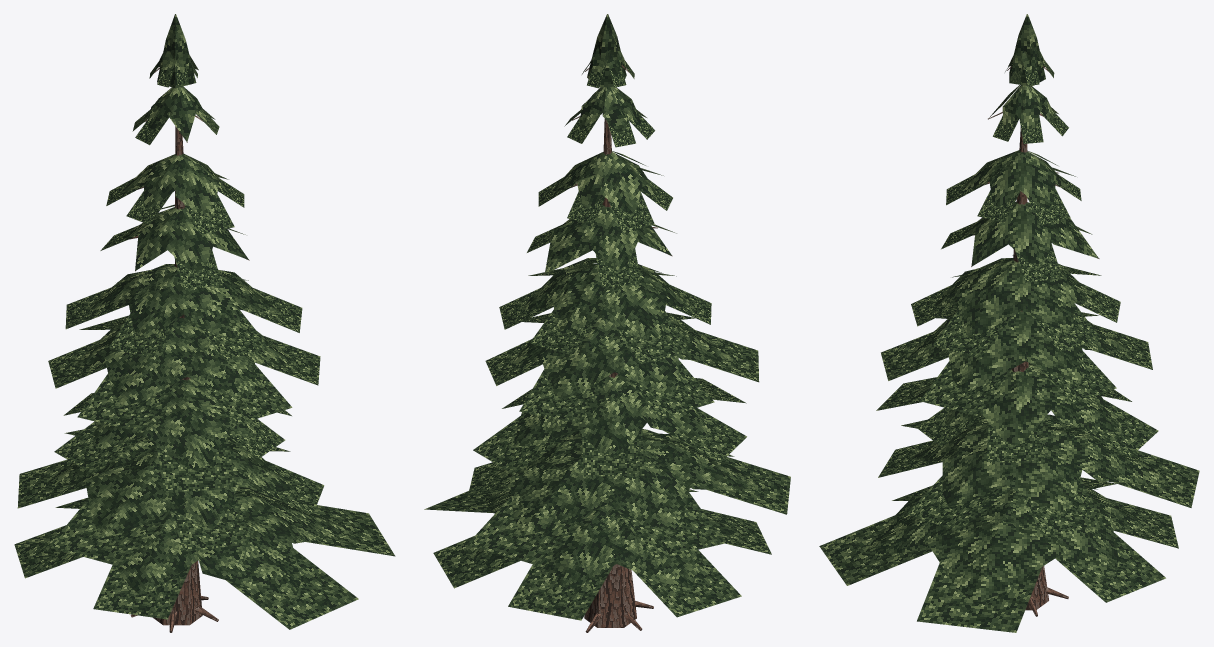
File: TREE_Spruce_A_LOD1.glb
3 views of the same model, side by side, from view 1: azimuth 30°, elevation 25°; view 2: azimuth 150°, elevation 25°; view 3: azimuth 270°, elevation 25° (orthographic). The views are drawn at different scales.
Visible parts, largest first — view 1: TREE_Spruce_A_LOD1__Foliage, TREE_Spruce_A_LOD1__Card, TREE_Spruce_A_LOD1__Bark; view 2: TREE_Spruce_A_LOD1__Foliage, TREE_Spruce_A_LOD1__Card, TREE_Spruce_A_LOD1__Bark; view 3: TREE_Spruce_A_LOD1__Foliage, TREE_Spruce_A_LOD1__Card, TREE_Spruce_A_LOD1__Bark.
Part boxes in pixels (x1,y1,x2,y2): TREE_Spruce_A_LOD1__Foliage: (47,14,348,595); TREE_Spruce_A_LOD1__Card: (14,55,395,629); TREE_Spruce_A_LOD1__Bark: (129,67,249,632); TREE_Spruce_A_LOD1__Foliage: (473,14,757,593); TREE_Spruce_A_LOD1__Card: (424,59,790,620); TREE_Spruce_A_LOD1__Bark: (544,65,672,632); TREE_Spruce_A_LOD1__Foliage: (865,14,1164,604); TREE_Spruce_A_LOD1__Card: (819,56,1199,632); TREE_Spruce_A_LOD1__Bark: (971,66,1099,616).
Size of the model in its own units: 7.91 by 13.33 by 7.83.
3 materials, 3 textured.
